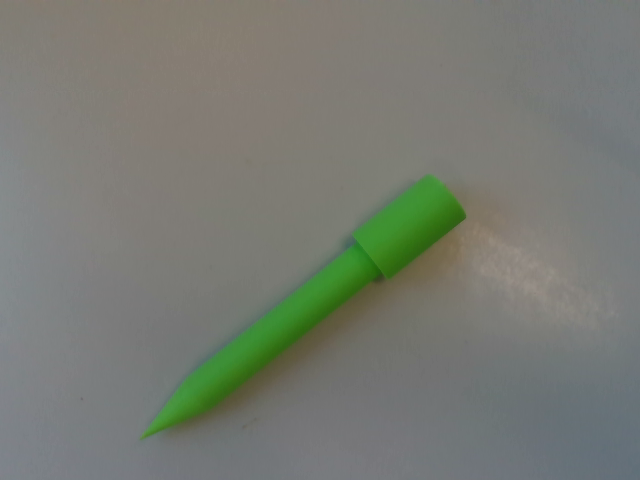Probe: (131, 162, 473, 450)
